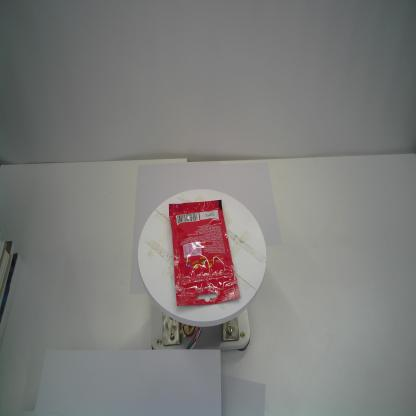Candy: (168, 199, 241, 307)
